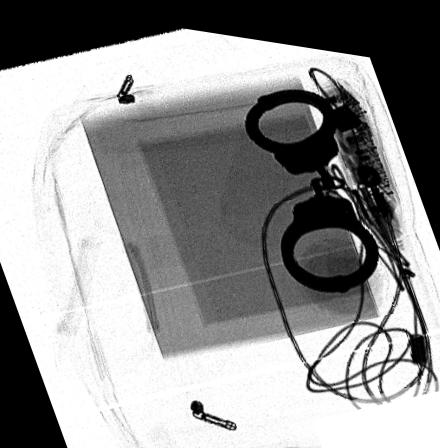HandCuffs: (242, 78, 378, 282)
